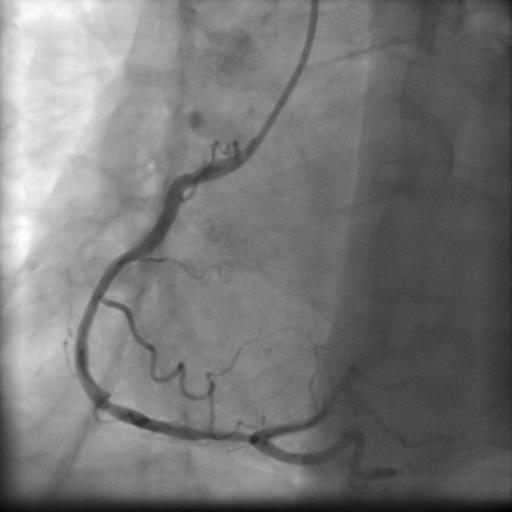Stenosis: (193, 423, 258, 448)
